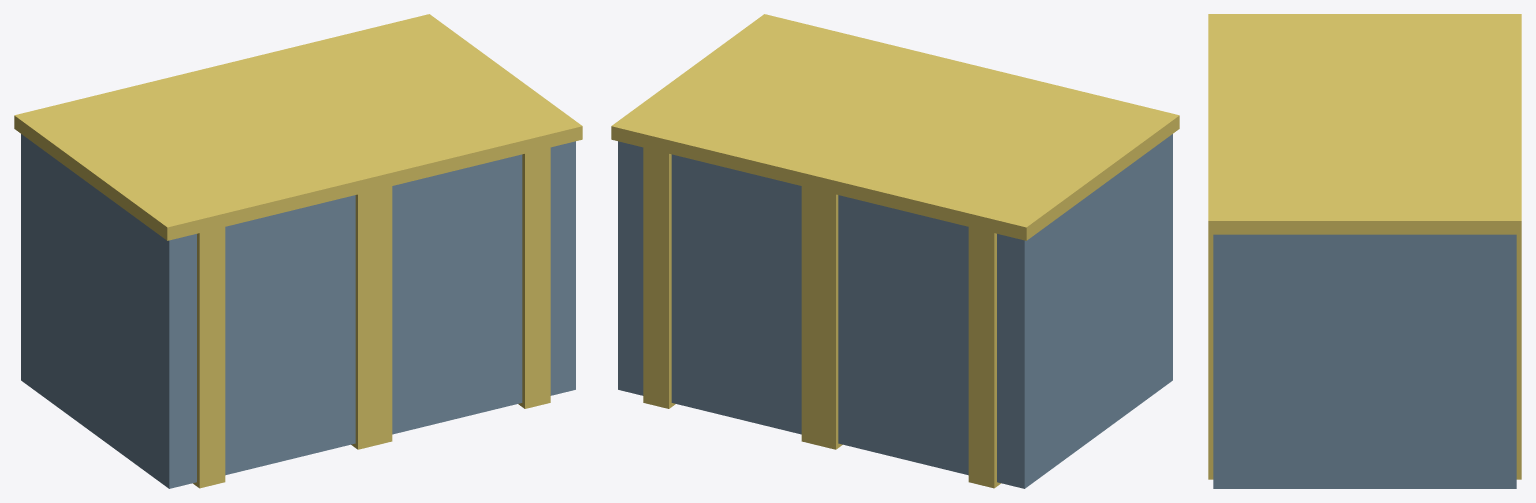
Rendered from loot_crate_elite.glb.
The picture shows the model from 3 angles, left to right: view 1: azimuth 30°, elevation 25°; view 2: azimuth 150°, elevation 25°; view 3: azimuth 270°, elevation 25°; orthographic projection. The views are drawn at different scales.
Parts seen in each view (by area): view 1: loot_crate_elite; view 2: loot_crate_elite; view 3: loot_crate_elite.
Boxes of the visible parts, left/top/right/bottom form: loot_crate_elite: left=14, top=14, right=582, bottom=488; loot_crate_elite: left=611, top=14, right=1179, bottom=488; loot_crate_elite: left=1208, top=14, right=1521, bottom=488.
Size of the model in its own units: 0.97 by 0.6 by 0.62.
